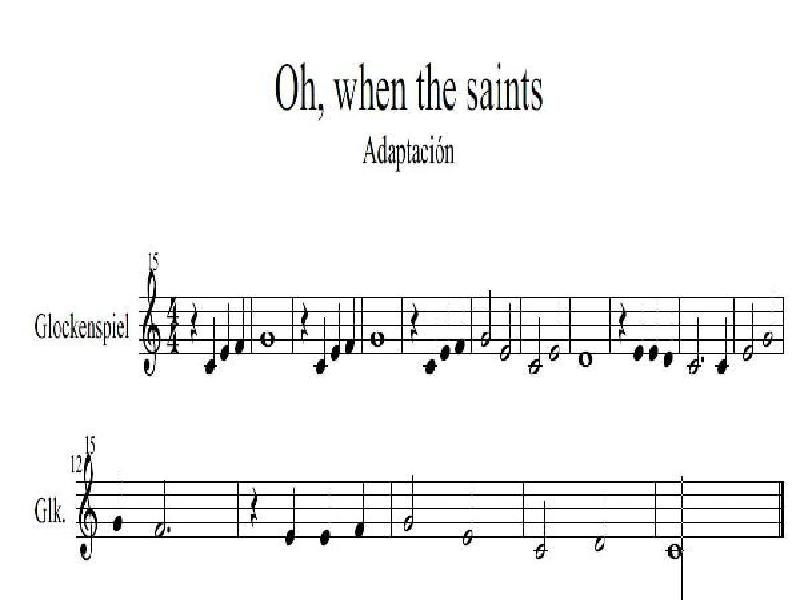B: (496, 302, 516, 365), (400, 475, 421, 533), (535, 496, 550, 562), (152, 481, 167, 541), (478, 288, 493, 345), (688, 316, 702, 376), (531, 318, 543, 376), (744, 303, 755, 362)
CS: (80, 458, 103, 561), (143, 270, 164, 373)
N: (284, 489, 300, 547), (232, 299, 248, 354), (205, 316, 219, 372), (717, 318, 730, 377), (221, 306, 232, 362)
R: (576, 349, 595, 366), (369, 328, 385, 347), (261, 329, 276, 349), (669, 539, 681, 561)
SN: (299, 301, 314, 344), (406, 304, 422, 343), (188, 301, 201, 339), (249, 483, 259, 529), (617, 300, 628, 341)
